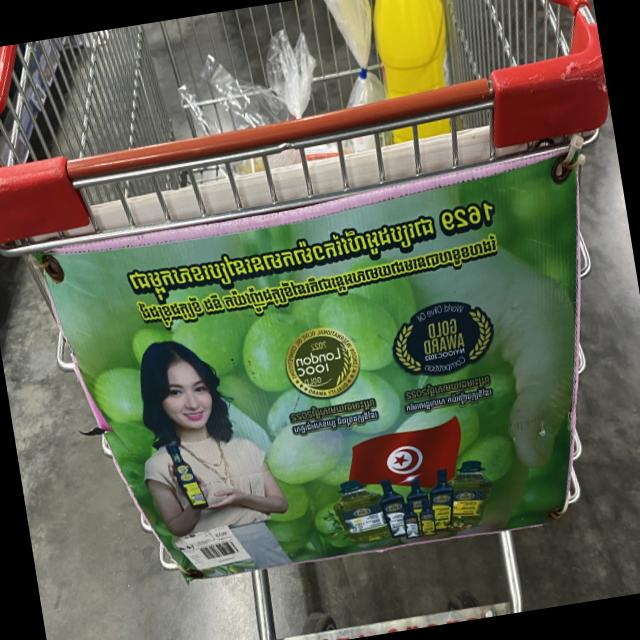1: (126, 225, 505, 343), (400, 384, 496, 420), (283, 406, 383, 440)
152: (309, 392, 380, 421)
Yolov11kh: (122, 206, 441, 307), (424, 369, 493, 400)
